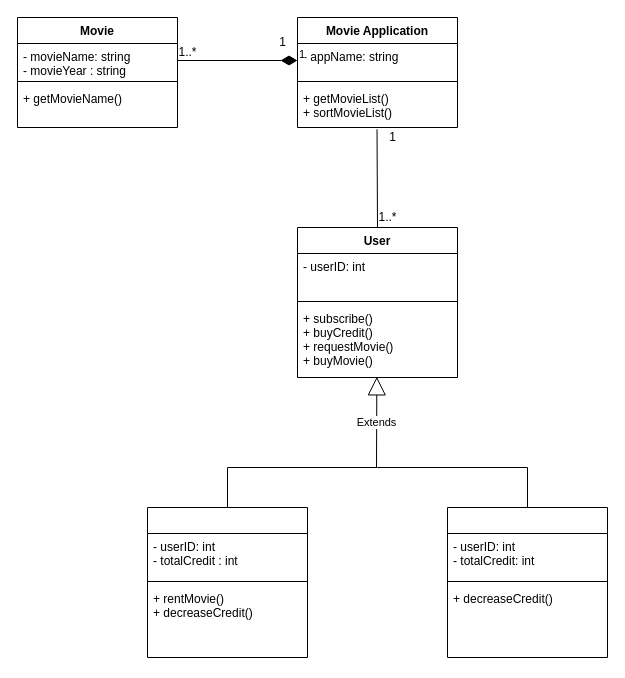
The diagram is 625 pixels wide and 678 high, and some of its shapes have lost their labels. Each missing label, with the box of its shape:
Standart User: (446, 506, 608, 658)
Subscriber: (146, 506, 308, 658)
